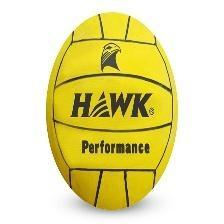Sports-Ball: (50, 16, 175, 211)
